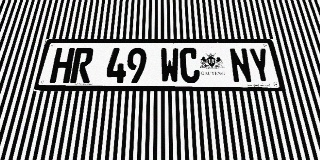4: (105, 48, 128, 83)
9: (126, 48, 147, 83)
C: (179, 48, 201, 83)
H: (49, 48, 75, 83)
N: (228, 48, 253, 83)
R: (70, 48, 94, 83)
W: (160, 48, 180, 83)
Y: (248, 48, 274, 83)
